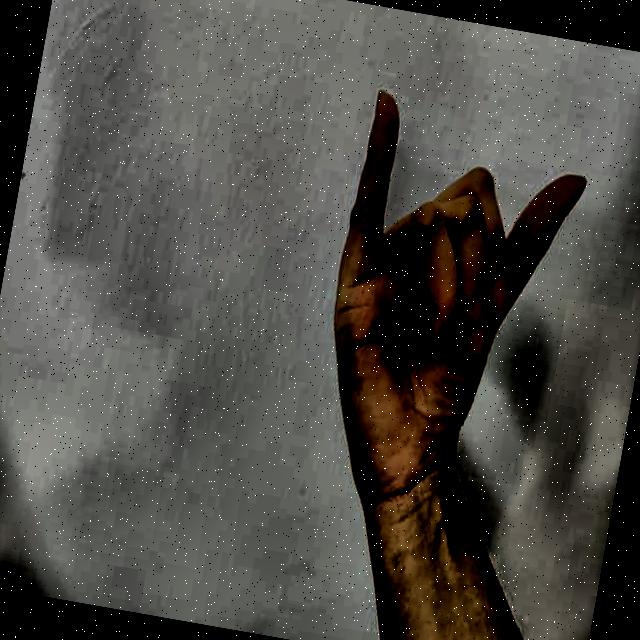Oi: (278, 54, 614, 546)
